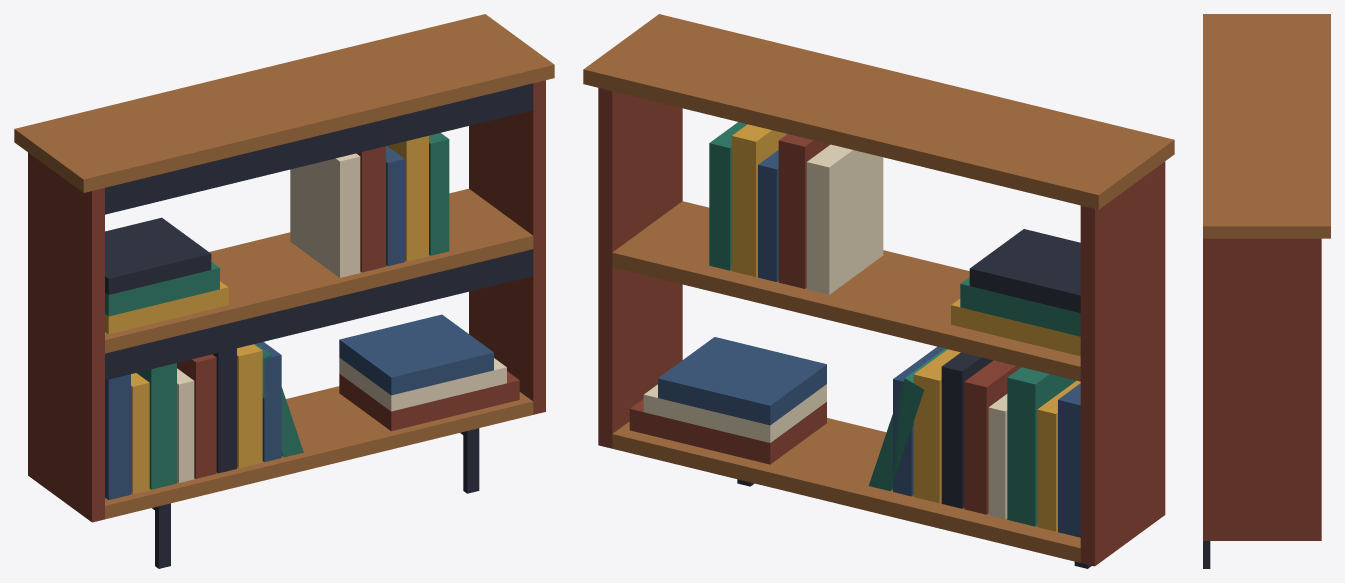
File: kitaplık.fbx
3 views of the same model, side by side, from view 1: azimuth 30°, elevation 25°; view 2: azimuth 150°, elevation 25°; view 3: azimuth 270°, elevation 25° (orthographic). The views are drawn at different scales.
Parts seen in each view (by area): view 1: Kitaplik, Kitaplar; view 2: Kitaplik, Kitaplar; view 3: Kitaplik.
Boxes of the visible parts, box(x1,y1,x2,y2) form: Kitaplik: box(14, 14, 554, 568); Kitaplar: box(105, 133, 519, 500); Kitaplik: box(583, 14, 1174, 568); Kitaplar: box(629, 122, 1080, 537); Kitaplik: box(1203, 14, 1330, 568).
Bounding box in the file's own units: 550 × 455 × 140.
